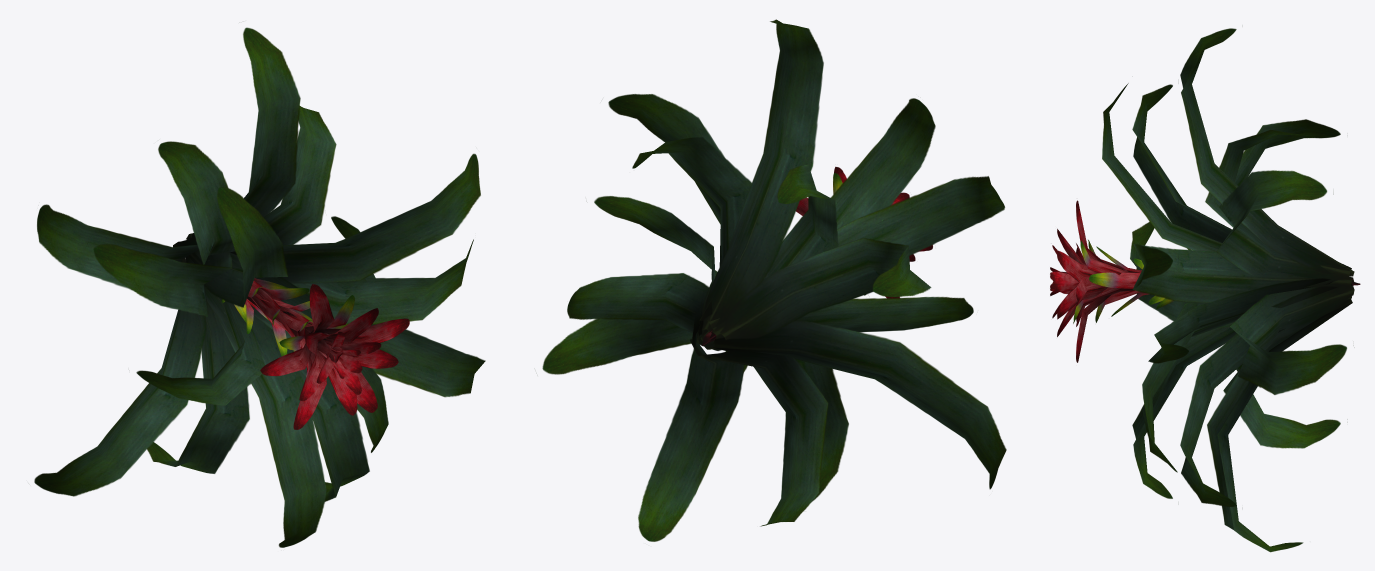
Rendered from Pl_Shrub2.glb.
The picture shows the model from 3 angles, left to right: view 1: azimuth 30°, elevation 25°; view 2: azimuth 150°, elevation 25°; view 3: azimuth 270°, elevation 25°; orthographic projection. The views are drawn at different scales.
Visible parts, largest first — view 1: trop_shrub_02; view 2: trop_shrub_02; view 3: trop_shrub_02.
Boxes of the visible parts, bbox=[...] form: trop_shrub_02: bbox=[34, 27, 485, 547]; trop_shrub_02: bbox=[542, 19, 1006, 541]; trop_shrub_02: bbox=[1050, 28, 1360, 552].
Bounding box in the file's own units: 1.33 × 1.4 × 0.8213.
1 material, 1 textured.
